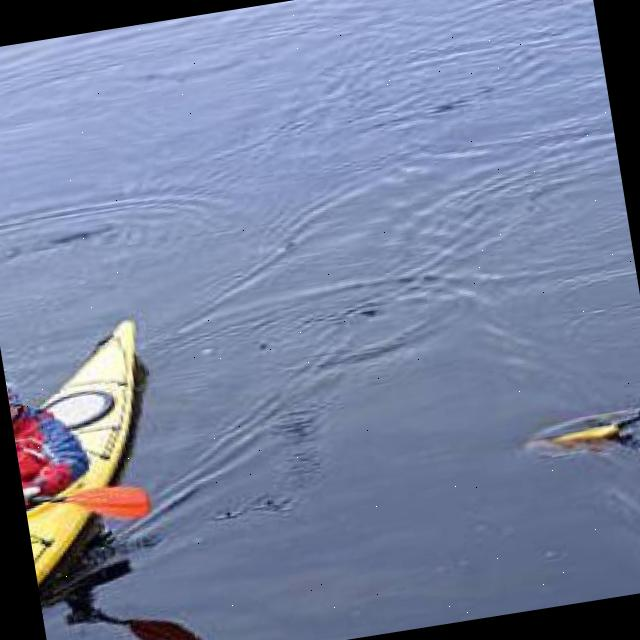kayak: (26, 321, 151, 592)
